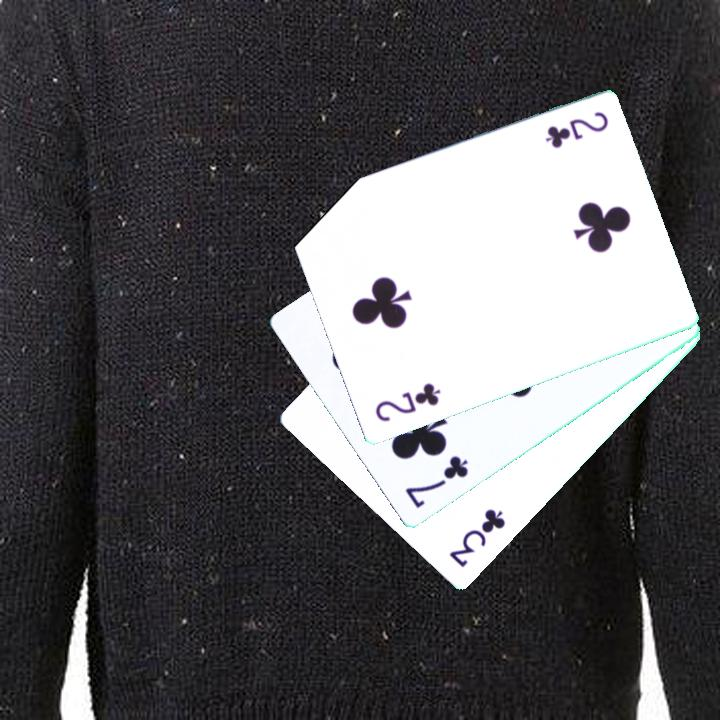2c: (371, 380, 443, 426), (541, 108, 611, 152)
3c: (445, 506, 509, 571)
7c: (401, 452, 472, 512)
